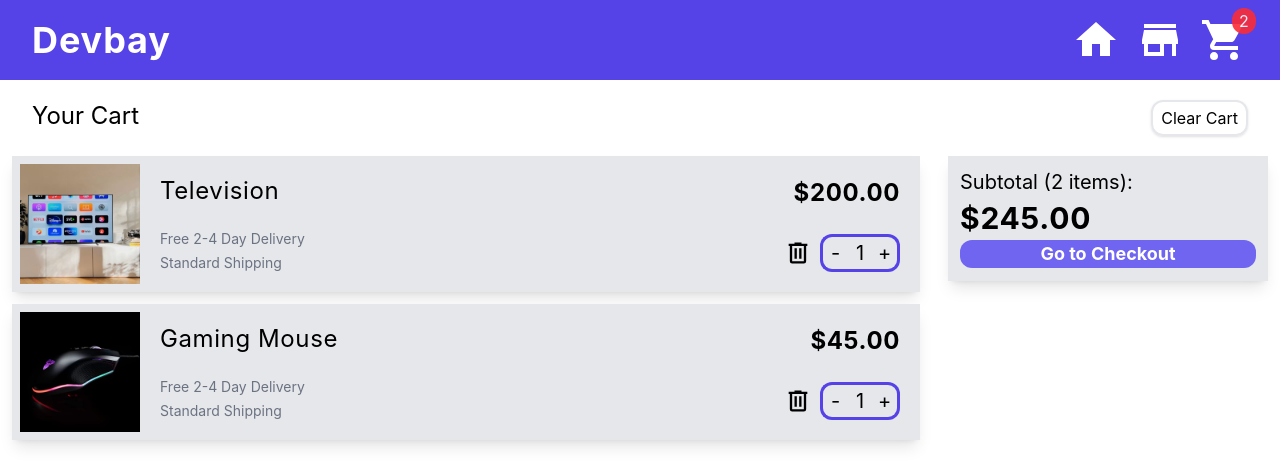
clear cart button clears the cart
Step 1. Click the button with test id "clear-cart-btn" → (1200,118), box [1151, 100, 1248, 136]
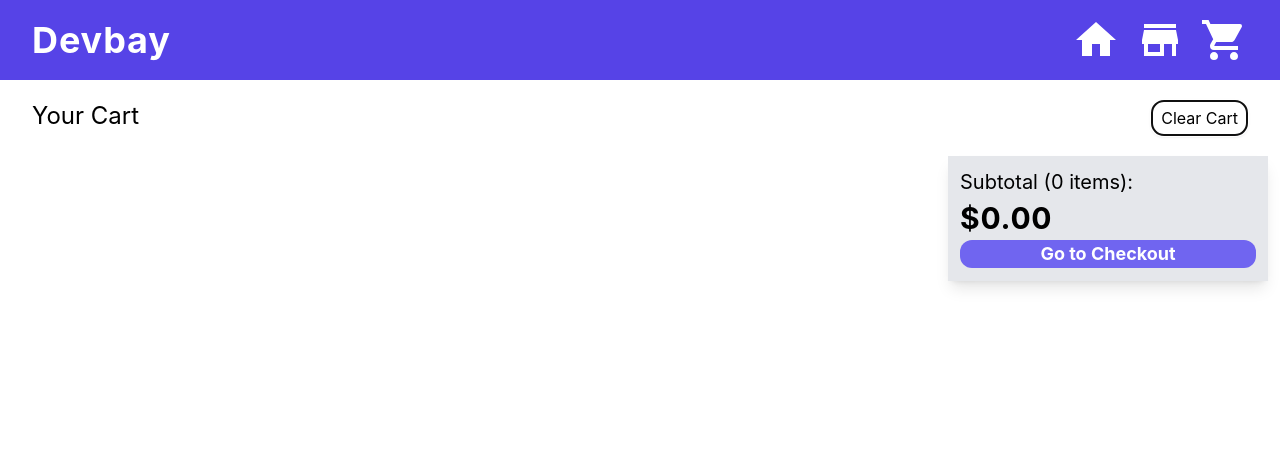
Result: the text "Television" is gone
Result: the text "Gaming Mouse" is gone
Result: the text "$0.00" is shown at [960, 200, 1052, 236]
